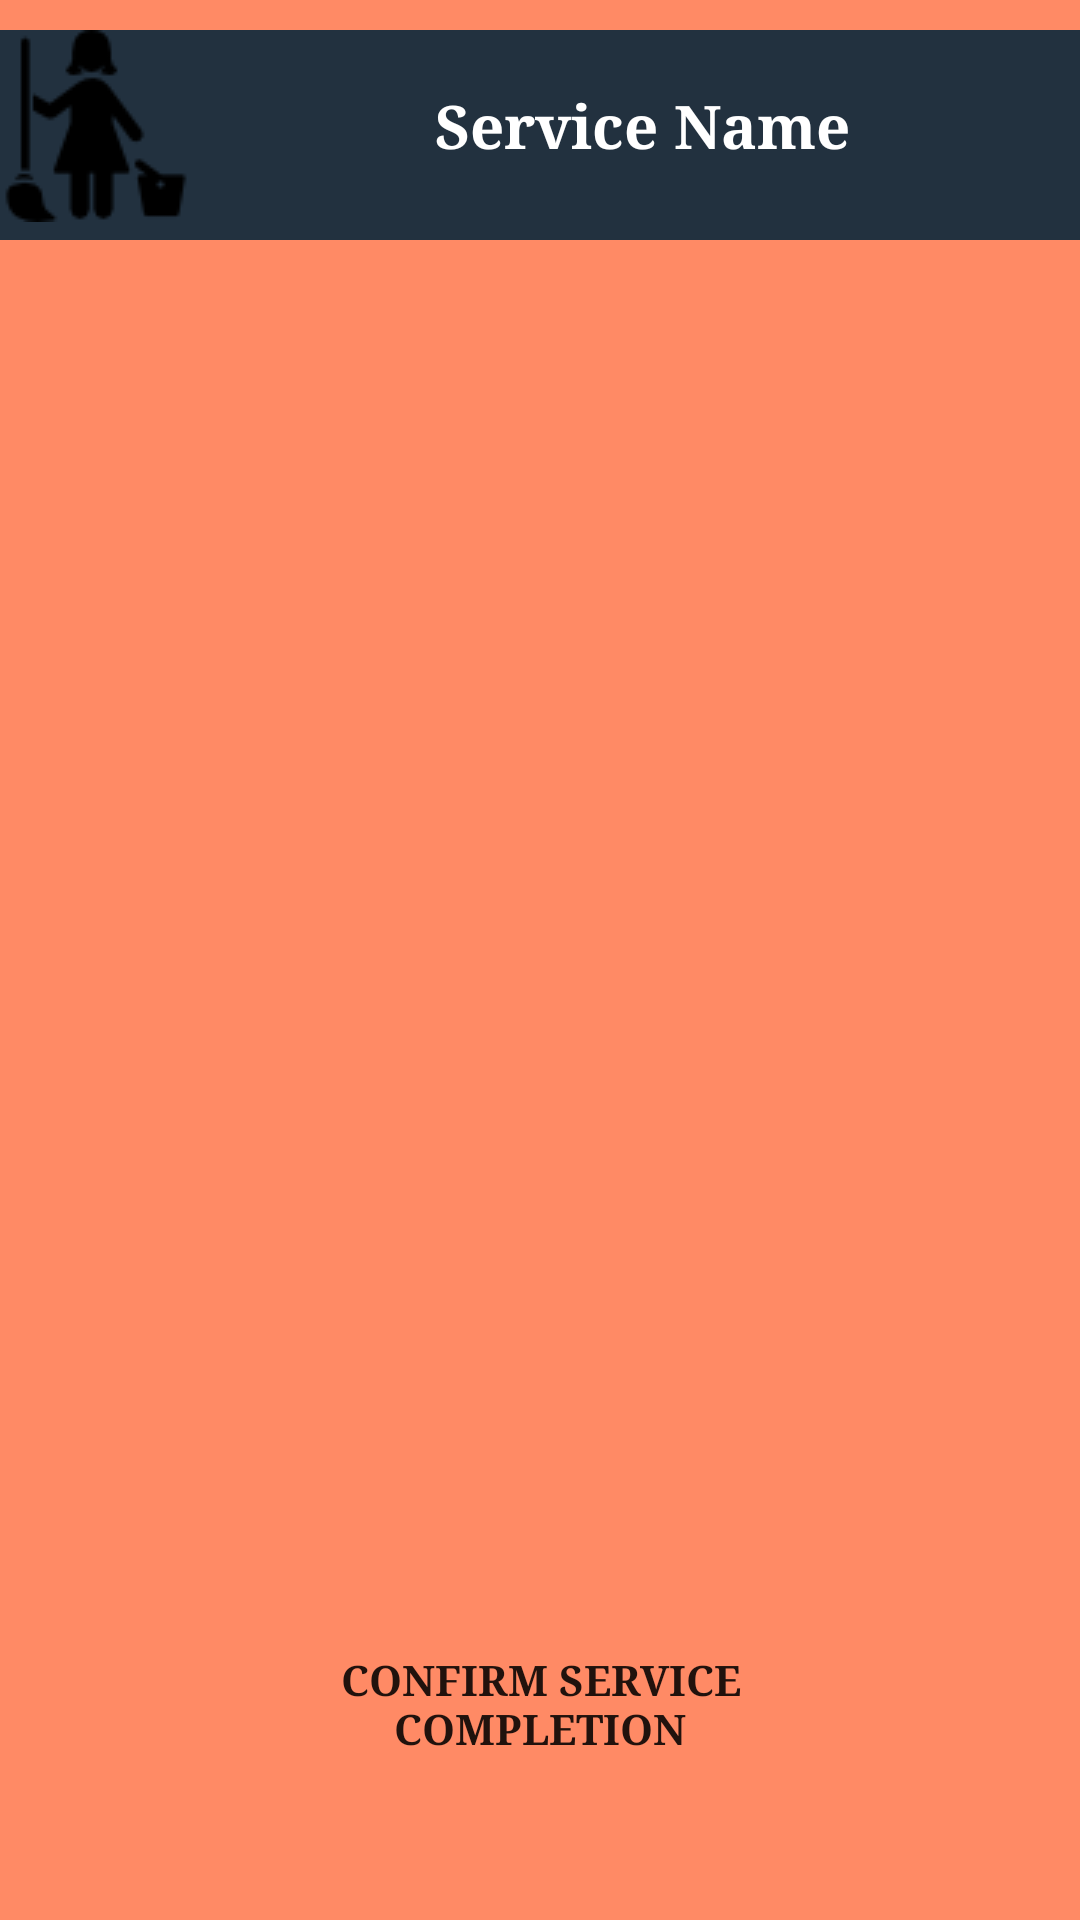

Where to tap for icons on this 1080×1920 app screen, as point (x, y):
cleaning: point (96, 130)
